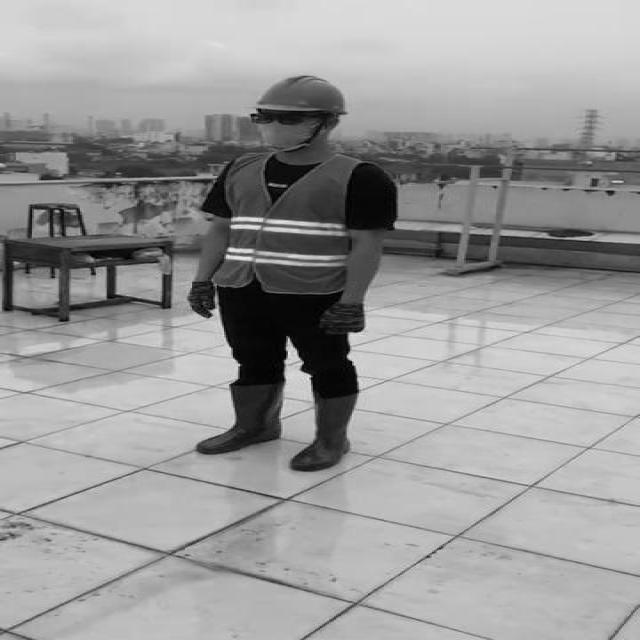boots: (187, 379, 293, 458), (288, 394, 357, 476)
face_mask: (253, 106, 321, 154)
glasses: (246, 108, 326, 128)
hand_glove: (309, 303, 384, 337), (190, 280, 220, 319)
head_helmet: (252, 72, 350, 115)
person: (180, 69, 408, 472)
vest: (210, 155, 366, 297)
